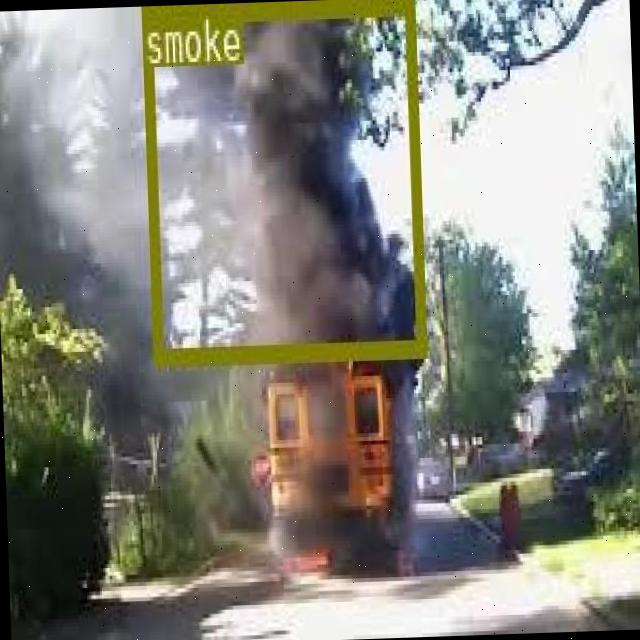smoke: (139, 0, 423, 360)
